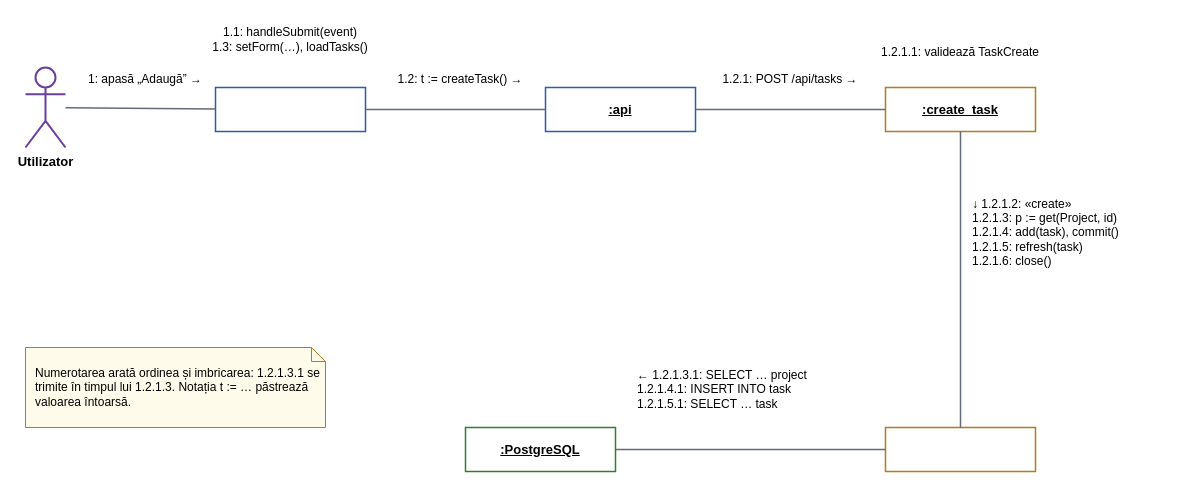
The diagram is 1187 pixels wide and 489 high, and some of its shapes have lost their labels. The box of each missing label's shape, as (x1, y1, x2, y2) in pixels:
:Session: (884, 426, 1036, 472)
:TasksPage: (214, 86, 366, 132)
